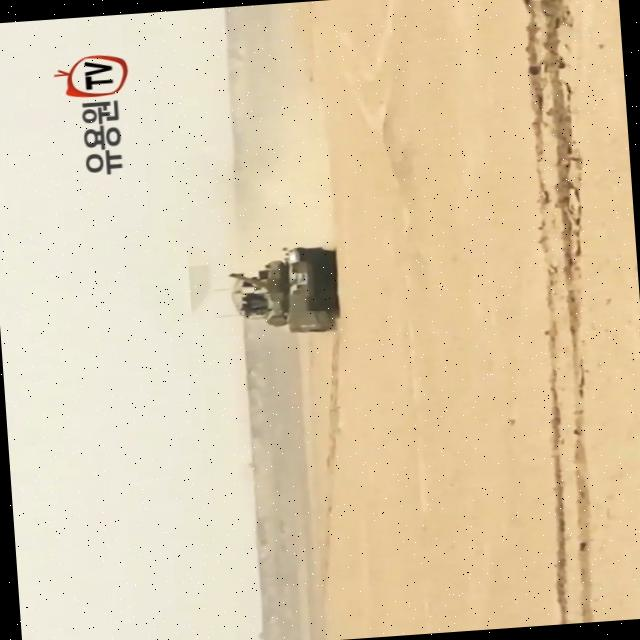korea tank: (222, 240, 342, 338)
